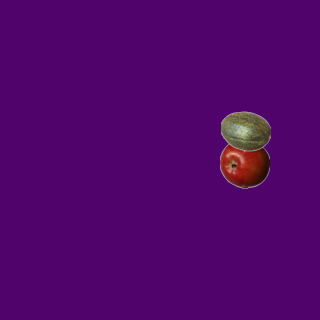Apple Braeburn: (219, 138, 269, 188)
Melon Piel de Sapo: (220, 106, 270, 156)
